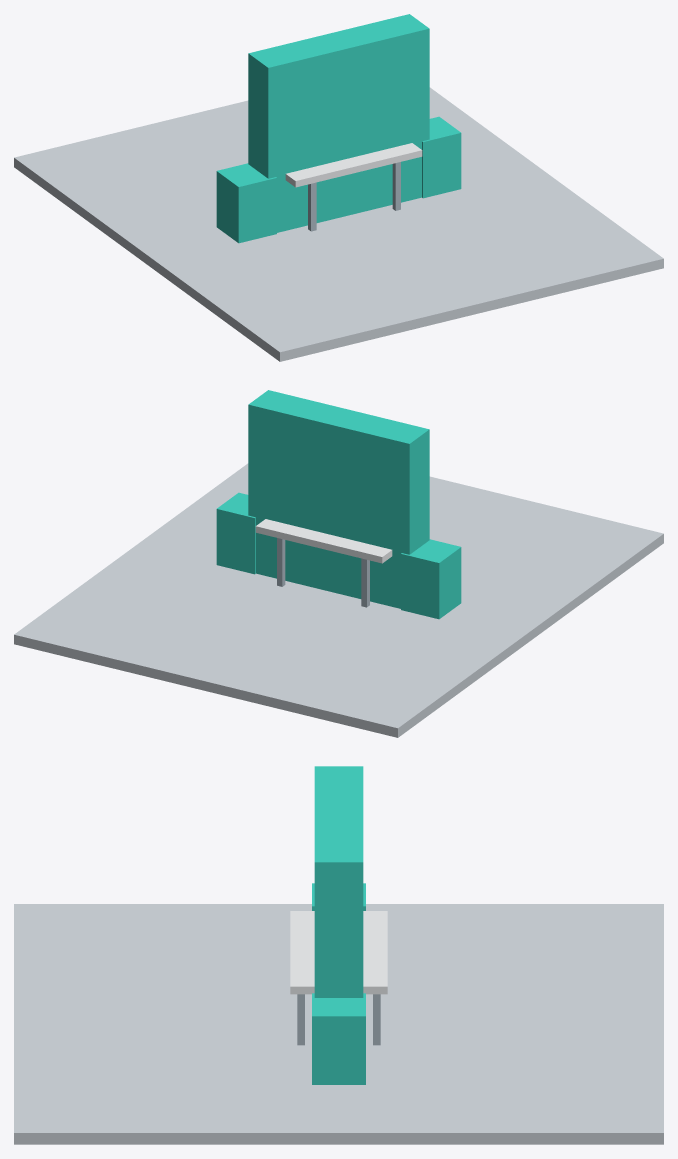
3 views of the same model, one above another, from view 1: azimuth 30°, elevation 25°; view 2: azimuth 150°, elevation 25°; view 3: azimuth 270°, elevation 25° (orthographic). The views are drawn at different scales.
Visible parts, largest first — view 1: Exhibition Booth Concept; view 2: Exhibition Booth Concept; view 3: Exhibition Booth Concept.
Part boxes in pixels (left/top/right/bottom): Exhibition Booth Concept: left=14, top=14, right=663, bottom=361; Exhibition Booth Concept: left=14, top=390, right=663, bottom=737; Exhibition Booth Concept: left=14, top=766, right=663, bottom=1144.
Bounding box in the file's own units: 5 × 2.2 × 6.
